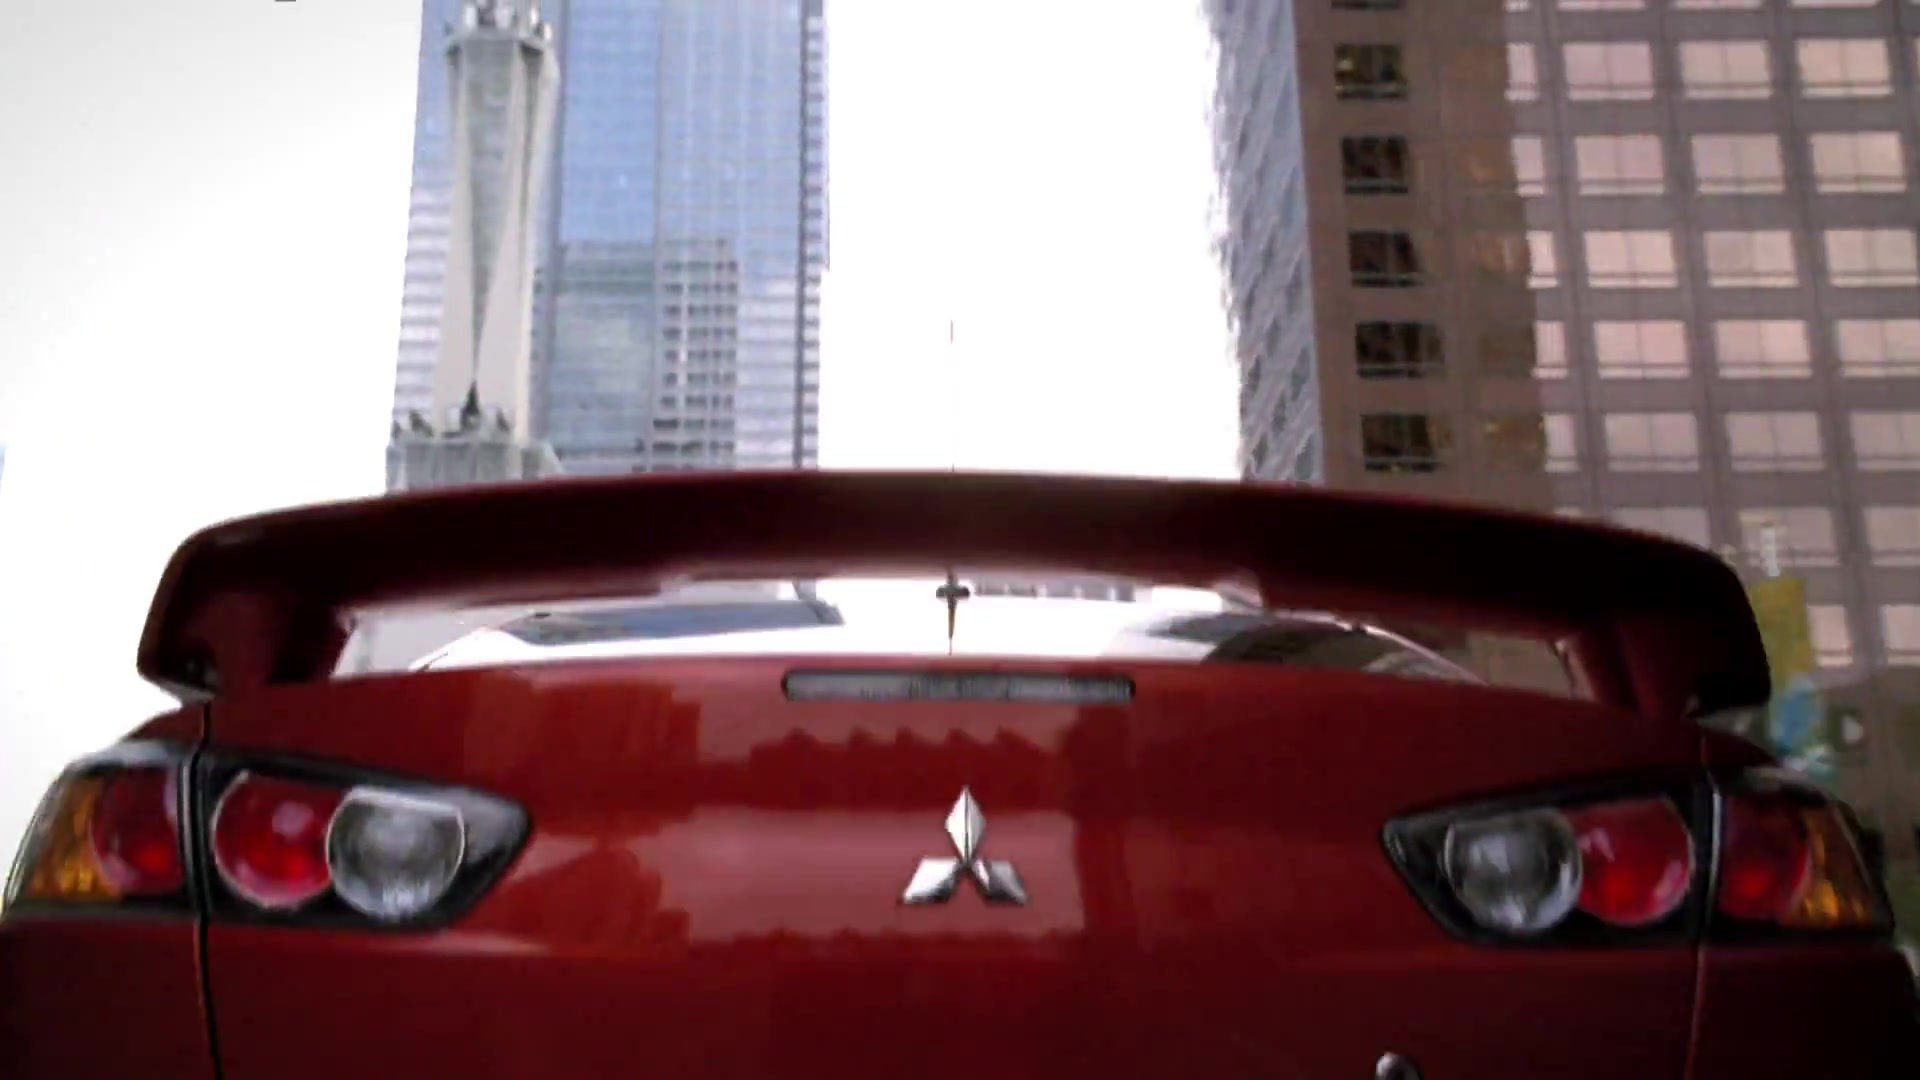car: (1, 462, 1920, 1080)
